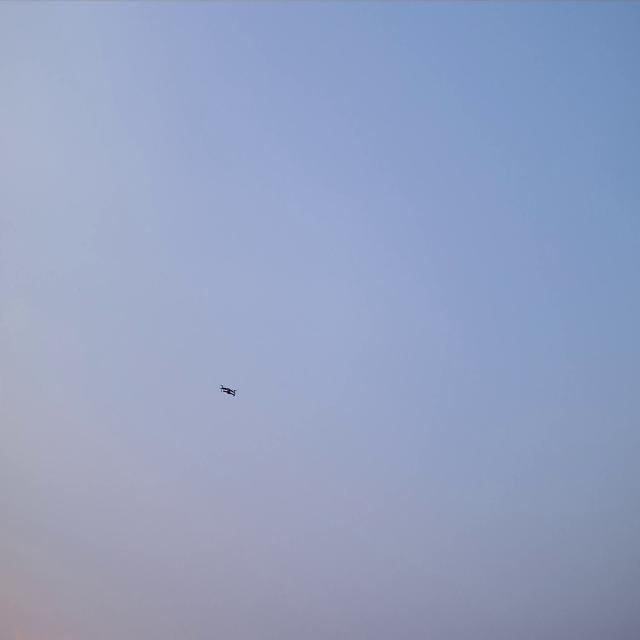UAV: (218, 383, 238, 397)
